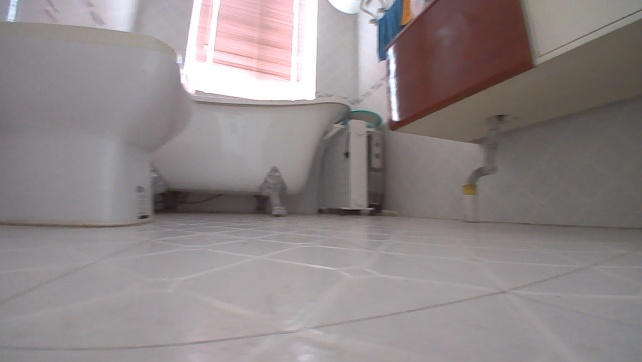toilet: (0, 14, 185, 228)
